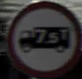Heavy Vehicles: (8, 5, 75, 68)
